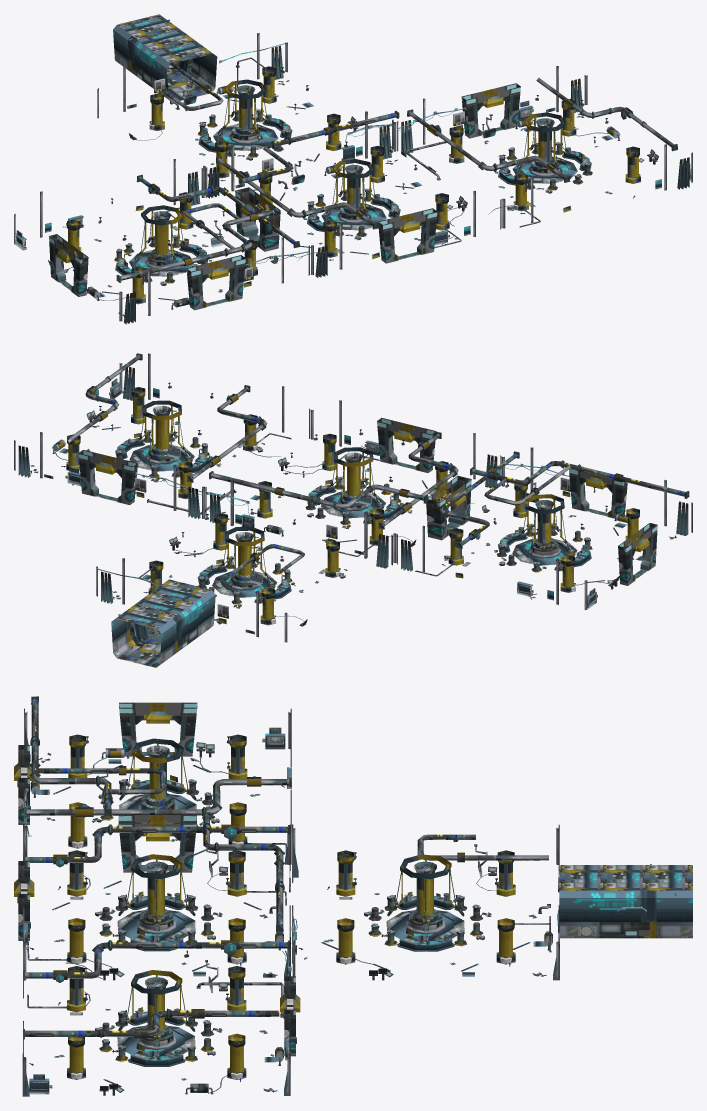
The model's file is Combined_Mesh_root_scene__10_7ad9d44b__ZombiesII_laboratory_09_d_715a74b3_c1f257_part001.obj.
The picture shows the model from 3 angles, top to bottom: view 1: azimuth 30°, elevation 25°; view 2: azimuth 150°, elevation 25°; view 3: azimuth 270°, elevation 25°; orthographic projection. The views are drawn at different scales.
Size of the model in its own units: 124 by 10.34 by 102.
541 materials, 541 textured.
